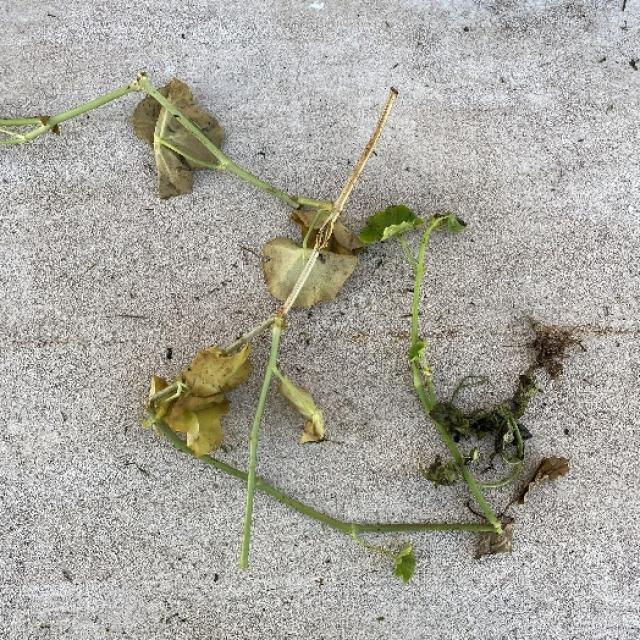organik: (130, 80, 552, 589)
